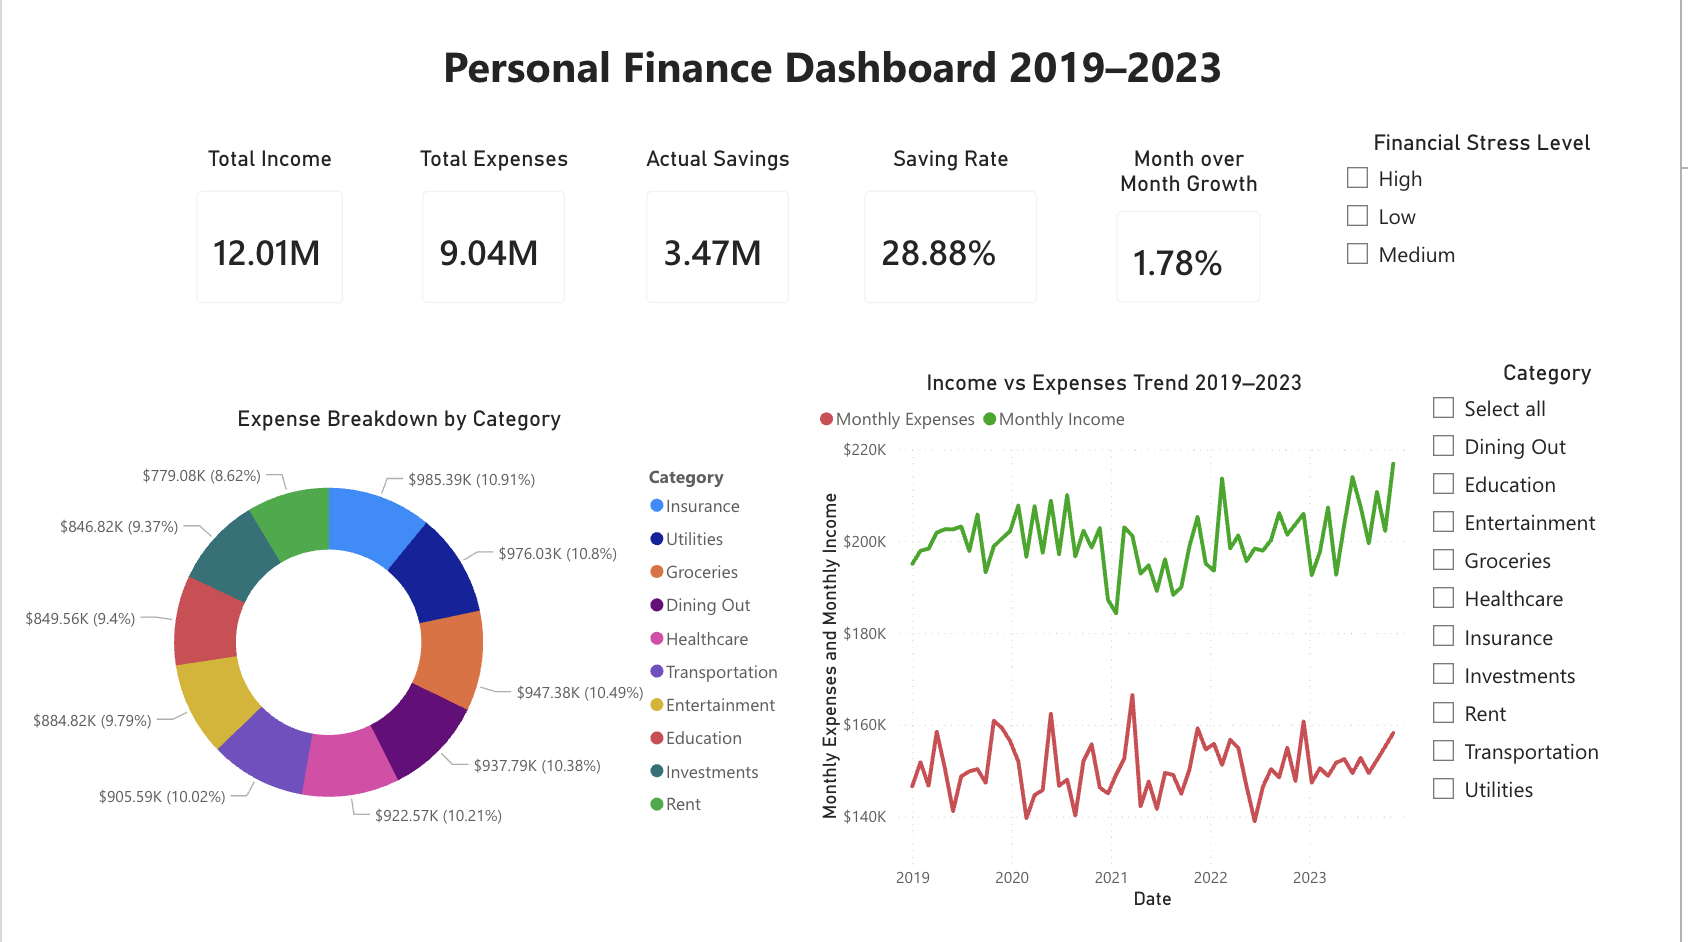

This screenshot's page, from the dashboard's own definition file:
{"tool":"powerbi","page":{"name":"Page 1","canvas":[1280,720],"ordinal":0},"visuals":[{"type":"cardVisual","title":"Total Income","fields":{"Data":["Sum(personal_finance_tracker_dataset 1.monthly_income)"]},"box":[0,113.1,247.9,136],"z":0},{"type":"cardVisual","title":"Actual Savings","fields":{"Data":["Sum(personal_finance_tracker_dataset 1.actual_savings)"]},"box":[490.6,113.1,244.1,136],"z":1000},{"type":"cardVisual","title":"Total Expenses","fields":{"Data":["Sum(personal_finance_tracker_dataset 1.monthly_expense_total)"]},"box":[247.9,113.1,242.8,136],"z":2000},{"type":"donutChart","title":"Expense Breakdown by Category","fields":{"Y":["Sum(personal_finance_tracker_dataset 1.monthly_expense_total)"],"Category":["personal_finance_tracker_dataset 1.category"]},"box":[0,311.4,606.3,341.9],"z":3000},{"type":"lineChart","title":"Income vs Expenses Trend 2019–2023","fields":{"Y":["Sum(personal_finance_tracker_dataset 1.monthly_expense_total)","Sum(personal_finance_tracker_dataset 1.monthly_income)"],"Category":["personal_finance_tracker_dataset 1.date"]},"box":[617.8,283.5,461.4,414.4],"z":4000},{"type":"slicer","title":"Financial Stress Level","fields":{"Values":["personal_finance_tracker_dataset 1.financial_stress_level"]},"box":[1047.4,113.1,232.6,162.7],"z":5000},{"type":"slicer","title":"Category","fields":{"Values":["personal_finance_tracker_dataset 1.category"]},"box":[1079.2,275.8,200.8,362.3],"z":6000},{"type":"textbox","box":[310.1,22.9,648.3,59.7],"z":7000},{"type":"cardVisual","title":"Saving Rate","fields":{"Data":["personal_finance_tracker_dataset 1.Saving Rate"]},"box":[734.7,113.1,166.5,136],"z":7001},{"type":"cardVisual","title":"Month over Month Growth","fields":{"Data":["personal_finance_tracker_dataset 1.MoM Growth"]},"box":[901.2,113.1,146.2,124.6],"z":7002}]}

Visuals, with their boxes in screenshot pixels (x1, y1, x2, y2), scaled from the page's 1280x720 canvas onto the 1688x942 screenshot:
"Total Income" cardVisual: pyautogui.locateOnScreen(0, 148, 327, 326)
"Actual Savings" cardVisual: pyautogui.locateOnScreen(647, 148, 969, 326)
"Total Expenses" cardVisual: pyautogui.locateOnScreen(327, 148, 647, 326)
"Expense Breakdown by Category" donutChart: pyautogui.locateOnScreen(0, 407, 800, 855)
"Income vs Expenses Trend 2019–2023" lineChart: pyautogui.locateOnScreen(815, 371, 1423, 913)
"Financial Stress Level" slicer: pyautogui.locateOnScreen(1381, 148, 1687, 361)
"Category" slicer: pyautogui.locateOnScreen(1423, 361, 1687, 835)
textbox: pyautogui.locateOnScreen(409, 30, 1264, 108)
"Saving Rate" cardVisual: pyautogui.locateOnScreen(969, 148, 1188, 326)
"Month over Month Growth" cardVisual: pyautogui.locateOnScreen(1188, 148, 1381, 311)
